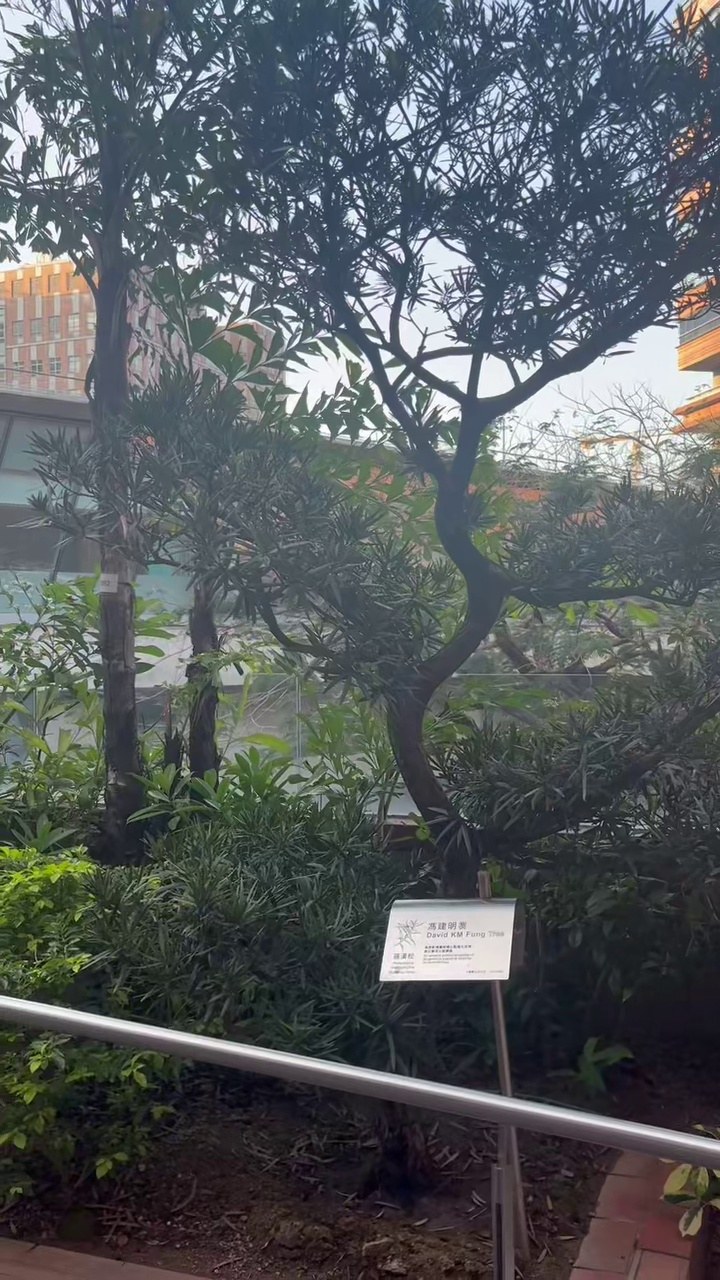Podocarpus macrophyllus: (122, 0, 719, 896)
